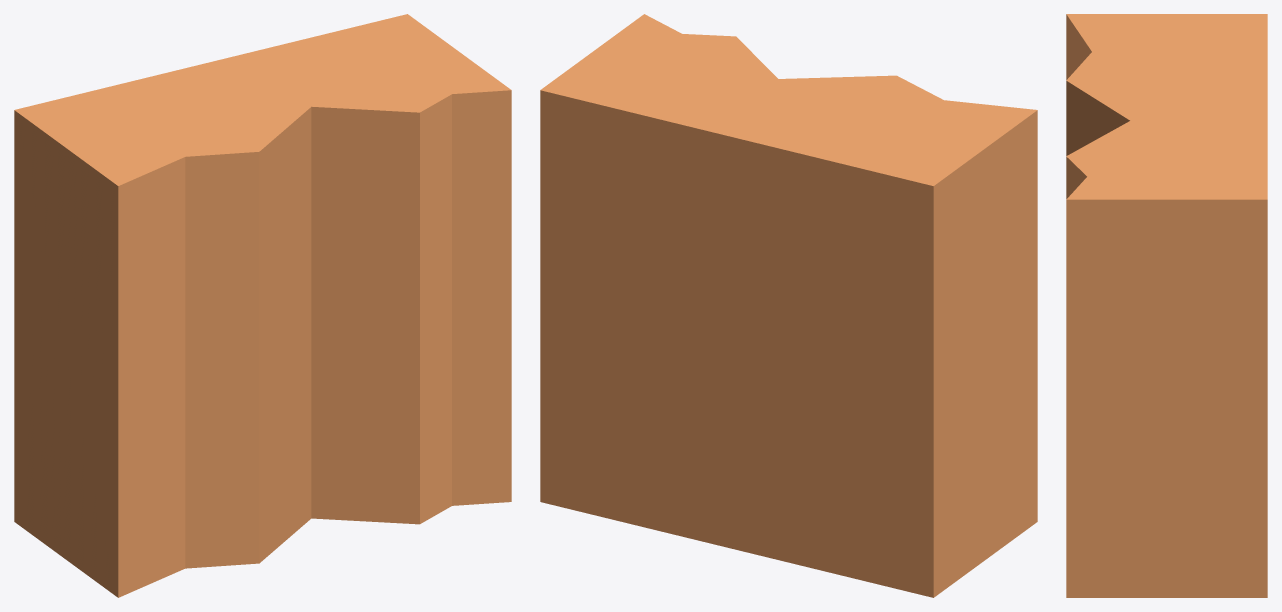
File: cliffBrown.fbx
3 renders of one model, left to right at view 1: azimuth 30°, elevation 25°; view 2: azimuth 150°, elevation 25°; view 3: azimuth 270°, elevation 25°, orthographic. The views are drawn at different scales.
Parts seen in each view (by area): view 1: cliffBrown; view 2: cliffBrown; view 3: cliffBrown.
Part boxes in pixels (box(x1,y1,x2,y2)): cliffBrown: box(14, 14, 511, 597); cliffBrown: box(540, 14, 1037, 597); cliffBrown: box(1066, 14, 1267, 597).
Size of the model in its own units: 10 by 10 by 4.58.
